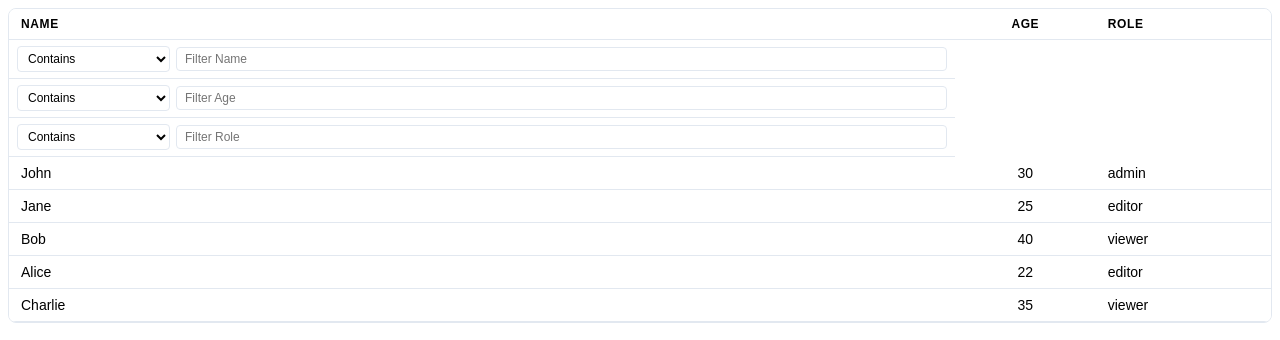
Test: DataGrid › renders the empty message when nothing matches
This screenshot has width=1280, height=340.
Type "zzz" into the field named "Role value" at x=561, y=137, box [176,125,947,149]
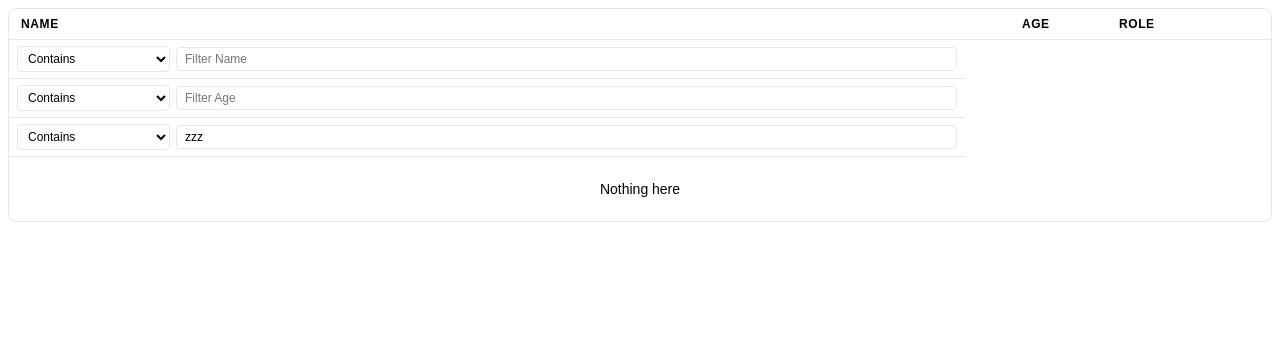
Now the text "Nothing here" is shown, box [600,181,680,197]
